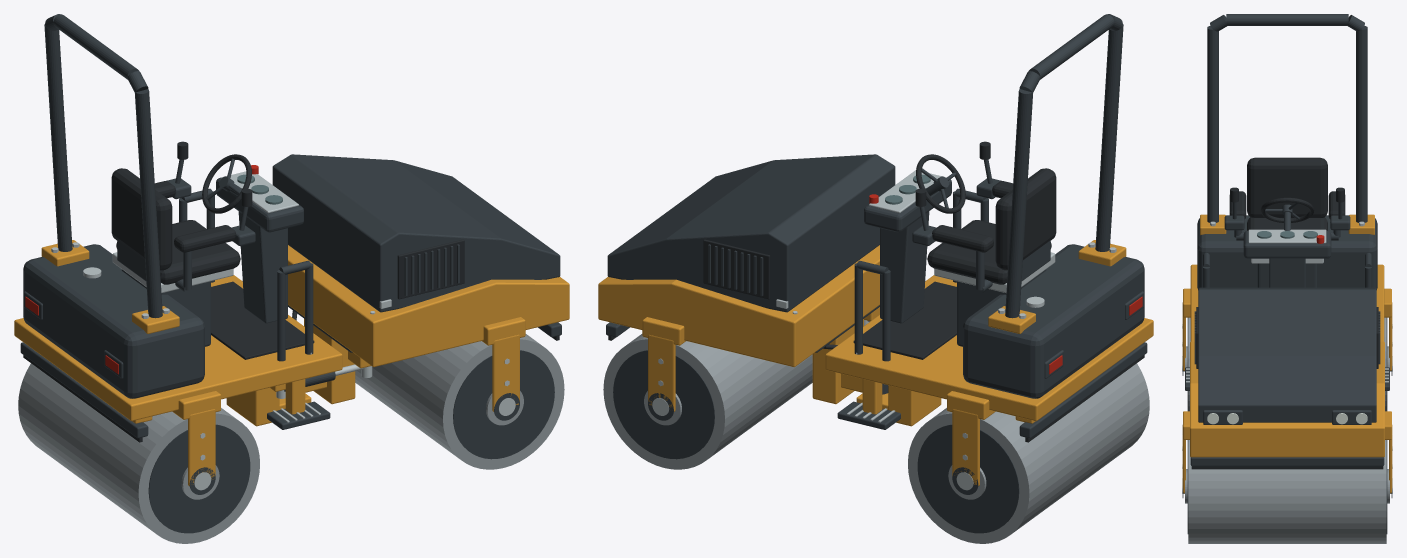
The picture shows the model from 3 angles, left to right: view 1: azimuth 30°, elevation 25°; view 2: azimuth 150°, elevation 25°; view 3: azimuth 270°, elevation 25°; orthographic projection. The views are drawn at different scales.
Parts seen in each view (by area): view 1: closed_sloping_engine_hood, rear_tank_closed, front_closed_chassis, rear_continuous_closed_drum, front_continuous_closed_drum, rear_operator_platform, rear_-1_end_recess_plate, front_-1_end_recess_plate, operator_floor_mat, console_floor_column, seat_back, ROPS_upright_-1 (+23 smaller); view 2: closed_sloping_engine_hood, rear_tank_closed, front_closed_chassis, rear_continuous_closed_drum, front_continuous_closed_drum, rear_operator_platform, rear_+1_end_recess_plate, front_+1_end_recess_plate, operator_floor_mat, console_floor_column, seat_back, ROPS_upright_1 (+23 smaller); view 3: closed_sloping_engine_hood, front_continuous_closed_drum, front_closed_chassis, rear_tank_closed, seat_back, ROPS_upright_-1, ROPS_upright_1, front_scraper_backing, console_housing, ROPS_crossbar, console_floor_column, rear_operator_platform (+16 smaller).
Part boxes in pixels (x1=…): closed_sloping_engine_hood: x1=272, y1=154, x2=560, y2=312; rear_tank_closed: x1=23, y1=244, x2=204, y2=398; front_closed_chassis: x1=288, y1=245, x2=569, y2=367; rear_continuous_closed_drum: x1=18, y1=363, x2=259, y2=543; front_continuous_closed_drum: x1=355, y1=334, x2=564, y2=469; rear_operator_platform: x1=14, y1=275, x2=342, y2=421; rear_-1_end_recess_plate: x1=148, y1=424, x2=250, y2=533; front_-1_end_recess_plate: x1=453, y1=350, x2=554, y2=459; operator_floor_mat: x1=211, y1=281, x2=314, y2=359; console_floor_column: x1=238, y1=211, x2=287, y2=323; seat_back: x1=111, y1=168, x2=172, y2=270; ROPS_upright_-1: x1=135, y1=89, x2=162, y2=318; closed_sloping_engine_hood: x1=607, y1=154, x2=895, y2=312; rear_tank_closed: x1=963, y1=244, x2=1144, y2=398; front_closed_chassis: x1=598, y1=245, x2=879, y2=367; rear_continuous_closed_drum: x1=908, y1=363, x2=1149, y2=543; front_continuous_closed_drum: x1=603, y1=334, x2=812, y2=469; rear_operator_platform: x1=825, y1=275, x2=1153, y2=421; rear_+1_end_recess_plate: x1=917, y1=424, x2=1019, y2=533; front_+1_end_recess_plate: x1=613, y1=350, x2=714, y2=459; operator_floor_mat: x1=853, y1=281, x2=956, y2=359; console_floor_column: x1=880, y1=211, x2=929, y2=323; seat_back: x1=995, y1=168, x2=1056, y2=270; ROPS_upright_1: x1=1005, y1=89, x2=1032, y2=318; closed_sloping_engine_hood: x1=1198, y1=287, x2=1376, y2=422; front_continuous_closed_drum: x1=1188, y1=440, x2=1386, y2=543; front_closed_chassis: x1=1190, y1=341, x2=1384, y2=457; rear_tank_closed: x1=1197, y1=215, x2=1377, y2=289; seat_back: x1=1247, y1=157, x2=1327, y2=217; ROPS_upright_-1: x1=1207, y1=26, x2=1218, y2=222; ROPS_upright_1: x1=1356, y1=26, x2=1367, y2=222; front_scraper_backing: x1=1190, y1=457, x2=1384, y2=466; console_housing: x1=1243, y1=230, x2=1331, y2=258; ROPS_crossbar: x1=1226, y1=14, x2=1348, y2=25; console_floor_column: x1=1269, y1=258, x2=1305, y2=287; rear_operator_platform: x1=1190, y1=264, x2=1384, y2=341.
Bounding box in the file's own units: 2.53 × 2.57 × 1.27.
